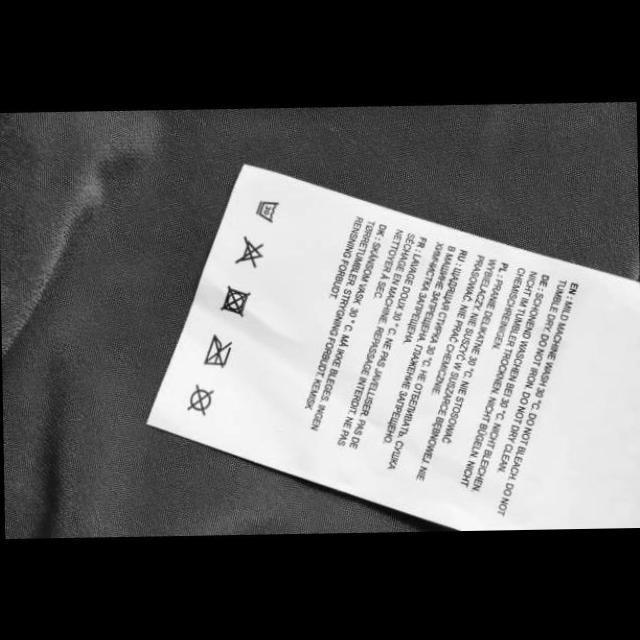30C: (252, 198, 280, 224)
DN_bleach: (231, 234, 265, 270)
DN_dry_clean: (183, 382, 216, 418)
DN_iron: (199, 332, 234, 374)
DN_tumble_dry: (218, 284, 252, 320)
